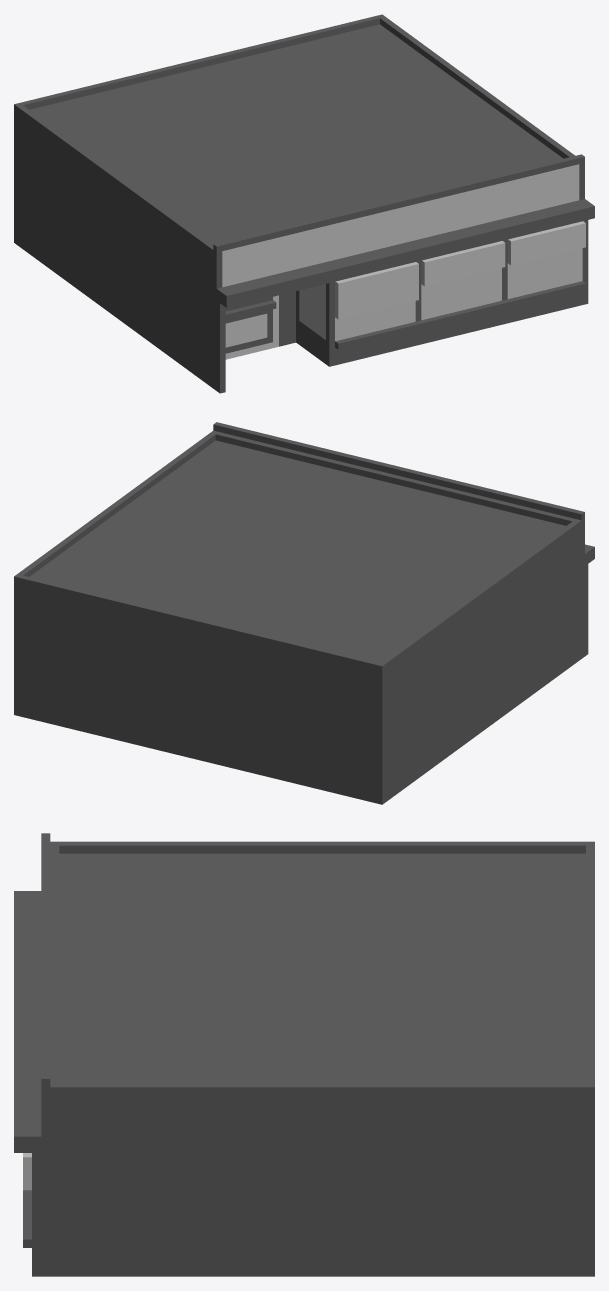
File: bld_store12.obj
3 renders of one model, top to bottom at view 1: azimuth 30°, elevation 25°; view 2: azimuth 150°, elevation 25°; view 3: azimuth 270°, elevation 25°, orthographic. The views are drawn at different scales.
Bounding box in the file's own units: 64 × 24 × 64.
